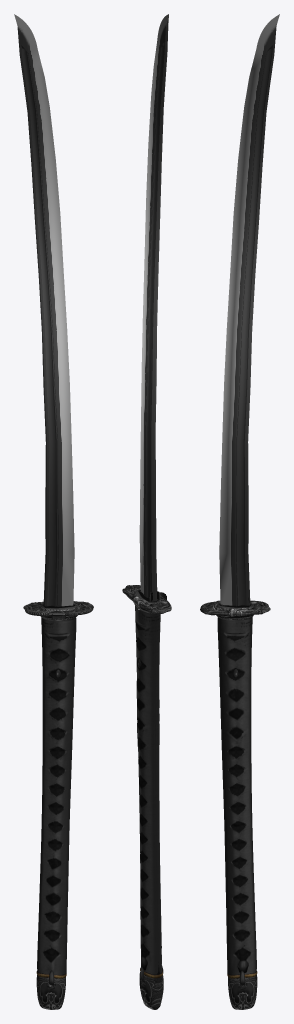
The model's file is 御林长刀.fbx.
3 renders of one model, left to right at view 1: azimuth 90°, elevation 25°; view 2: azimuth 210°, elevation 25°; view 3: azimuth 270°, elevation 25°, orthographic.
Parts seen in each view (by area): view 1: y阎魔刀; view 2: y阎魔刀; view 3: y阎魔刀.
Boxes of the visible parts, x1=… form: y阎魔刀: x1=14, y1=14, x2=93, y2=1009; y阎魔刀: x1=122, y1=14, x2=171, y2=1009; y阎魔刀: x1=200, y1=14, x2=279, y2=1009.
Bounding box in the file's own units: 0.0306 × 0.9399 × 0.0684.
